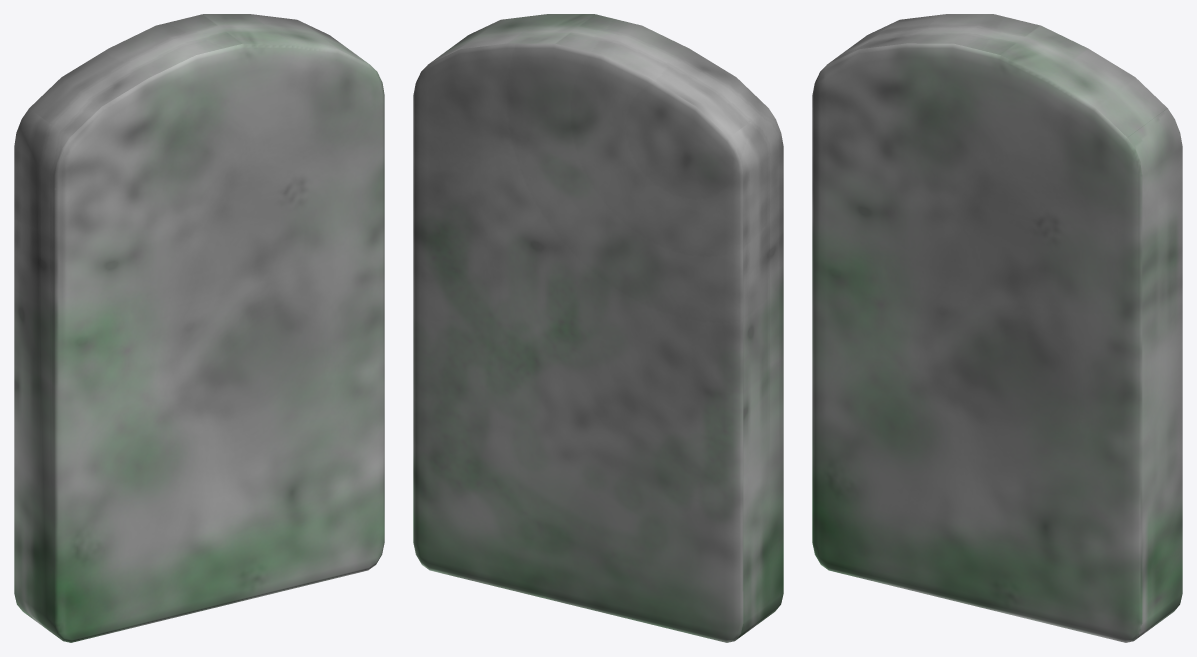
File: headstone.fbx
3 views of the same model, side by side, from view 1: azimuth 30°, elevation 25°; view 2: azimuth 150°, elevation 25°; view 3: azimuth 330°, elevation 25° (orthographic).
Visible parts, largest first — view 1: headstone; view 2: headstone; view 3: headstone.
Boxes of the visible parts, left/top/right/bottom form: headstone: left=14, top=14, right=384, bottom=642; headstone: left=413, top=14, right=783, bottom=642; headstone: left=812, top=14, right=1182, bottom=642.
Bounding box in the file's own units: 25.44 × 41.04 × 5.97.
Materials: 1 (1 with a texture image).
